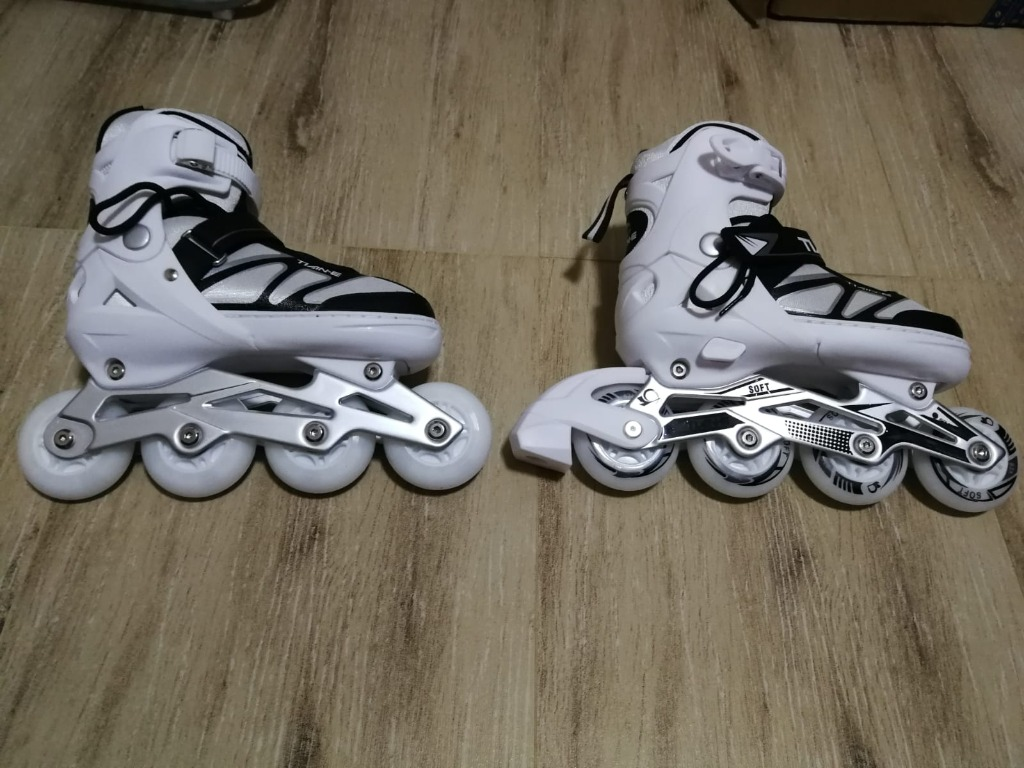roller_blate: (26, 105, 487, 480), (556, 123, 1008, 491)
